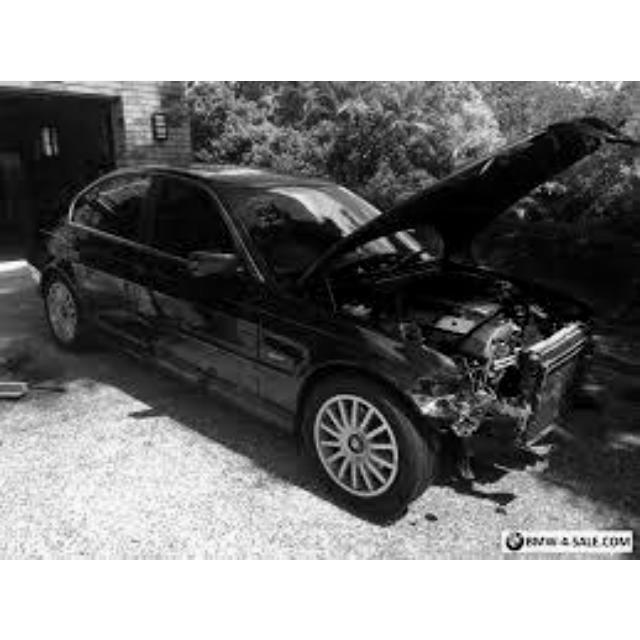Headlight-damage: (403, 350, 519, 421)
